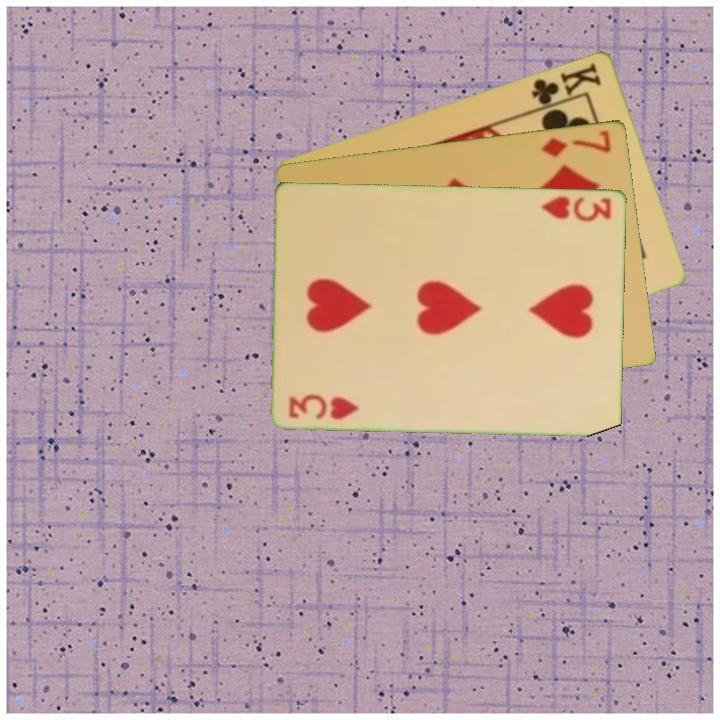3h: (538, 192, 615, 224), (285, 391, 362, 422)
7d: (538, 126, 615, 160)
Kc: (528, 58, 605, 113)
